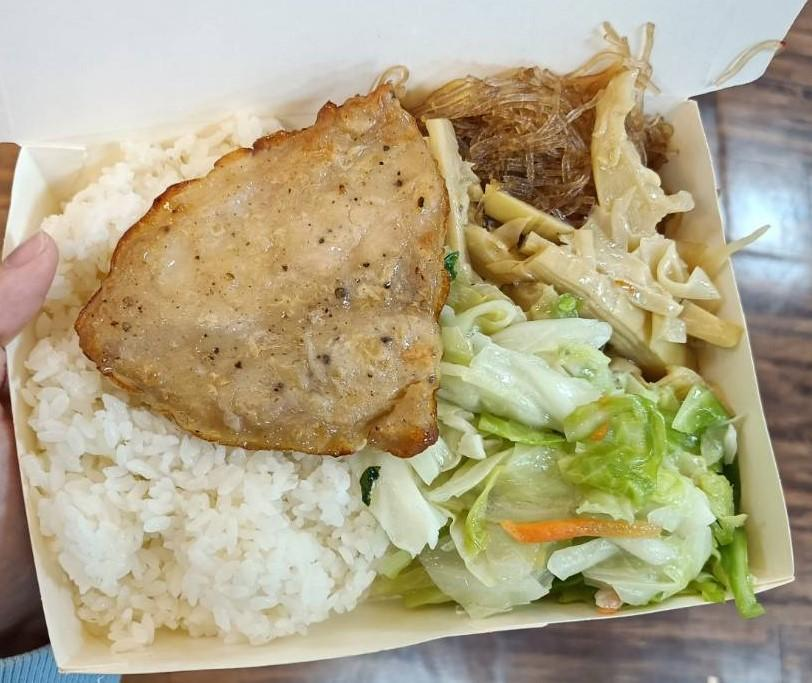big grilled chicken leg: (3, 86, 803, 683)
big herbal chicken leg: (20, 115, 391, 640)
braised fish fillet: (422, 289, 762, 616), (427, 107, 732, 375), (423, 50, 674, 216)
braised pork: (72, 86, 465, 461)
